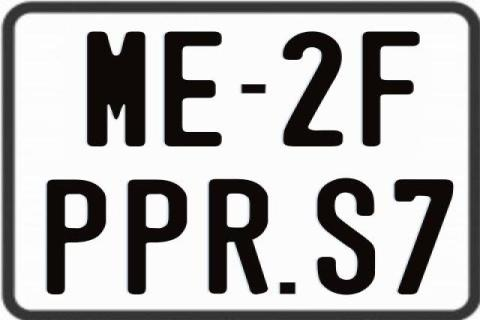0: (394, 177, 458, 293), (282, 32, 344, 150)
E: (162, 31, 225, 149)
F: (360, 31, 424, 150)
M: (85, 31, 146, 149)
P: (128, 178, 192, 294), (47, 177, 108, 297)
R: (207, 177, 271, 293)
S: (314, 176, 378, 294)
